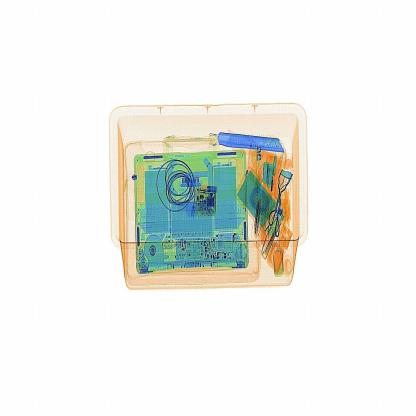pliers: (216, 132, 289, 156)
